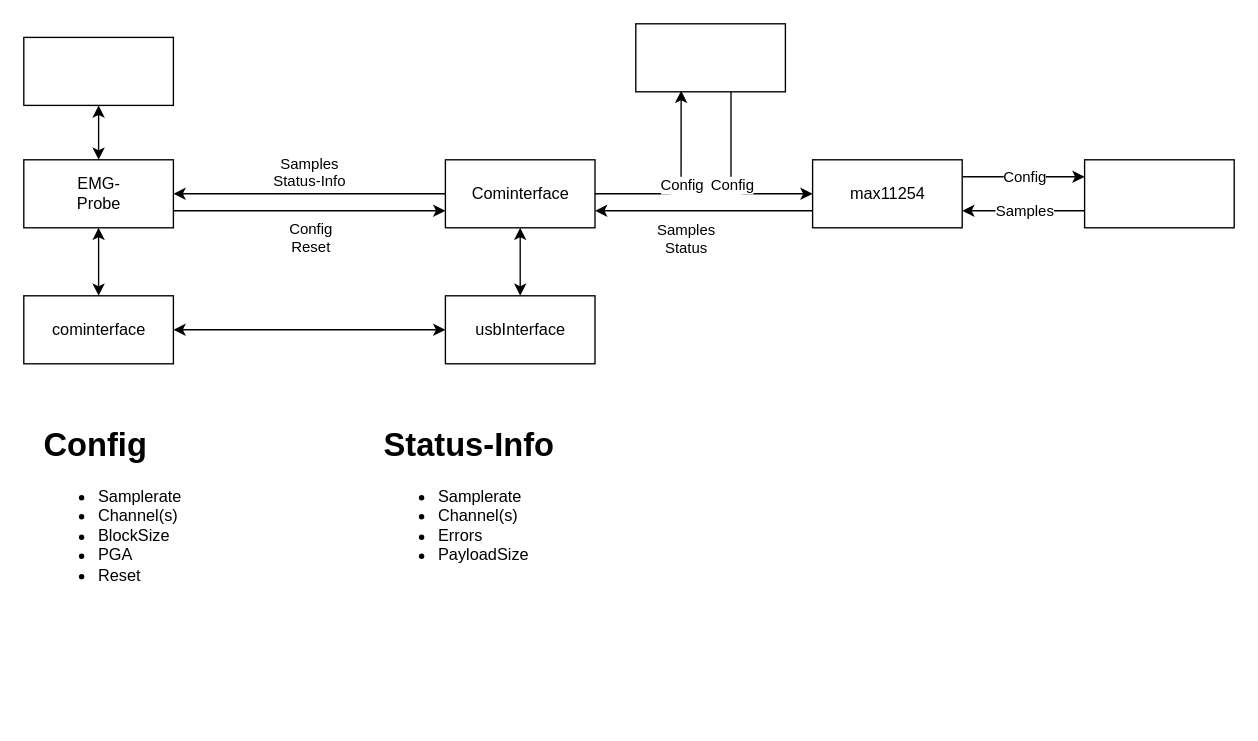
Some shapes in this 1258 by 741 pixel diagram are drawn without their labels. The shapes that lost their labels are listed below. From the top down, each one's centre as x and y in pixels, then its label:
the point at 97,70: EMG- Logger
the point at 709,57: EMGLogger
the point at 1158,193: max11254_hal
